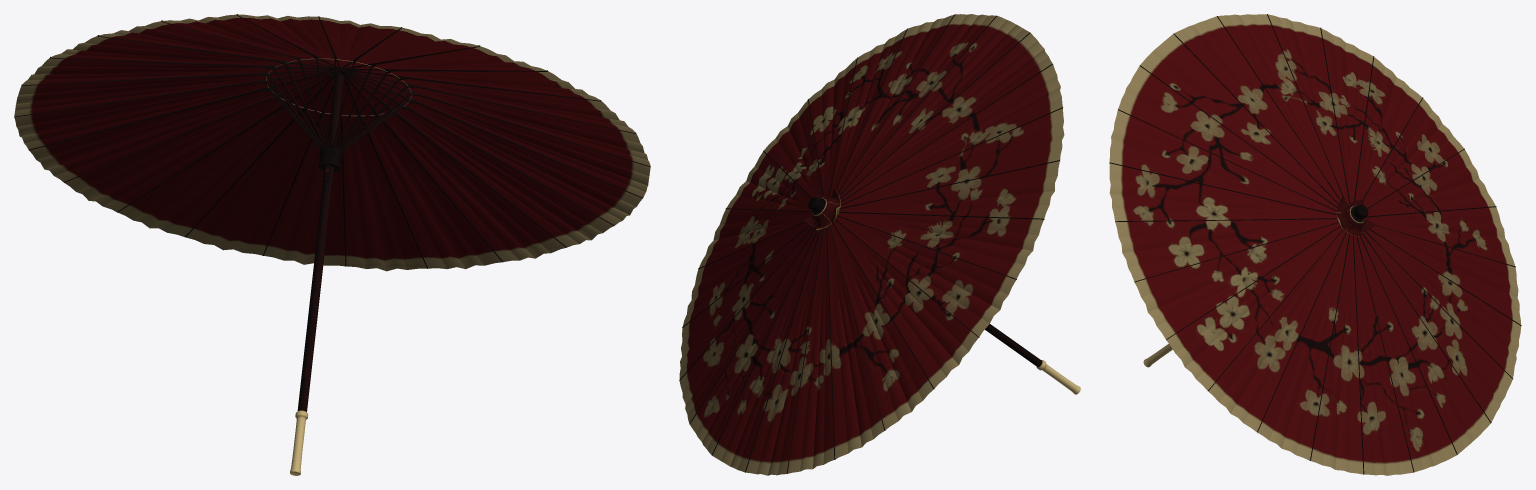
The model's file is umbrella.glb.
The picture shows the model from 3 angles, left to right: view 1: azimuth 30°, elevation 25°; view 2: azimuth 150°, elevation 25°; view 3: azimuth 270°, elevation 25°; orthographic projection. The views are drawn at different scales.
Visible parts, largest first — view 1: polySurface189, polySurface155; view 2: polySurface207, polySurface155; view 3: polySurface207.
Boxes of the visible parts, x1=… form: polySurface189: x1=14, y1=15, x2=650, y2=271; polySurface155: x1=290, y1=71, x2=344, y2=475; polySurface207: x1=679, y1=14, x2=1064, y2=475; polySurface155: x1=985, y1=324, x2=1080, y2=394; polySurface207: x1=1109, y1=14, x2=1521, y2=475.
Size of the model in its own units: 50.05 by 42.59 by 45.66.
1 material, 1 textured.
